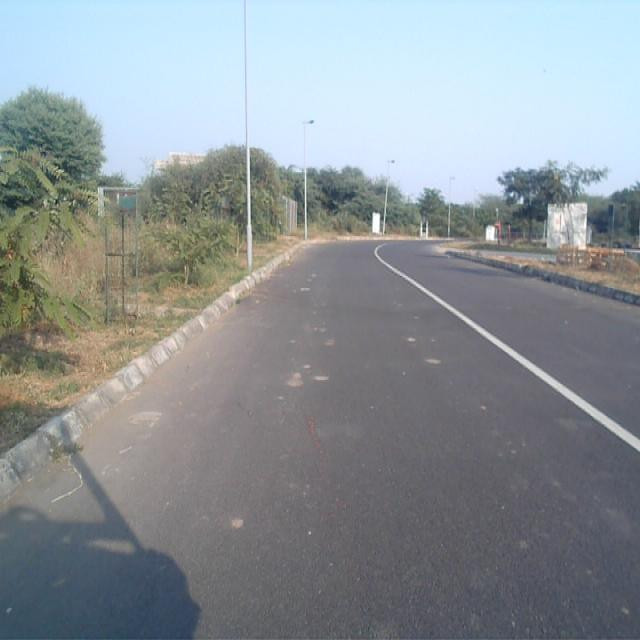lane: (0, 243, 639, 640)
